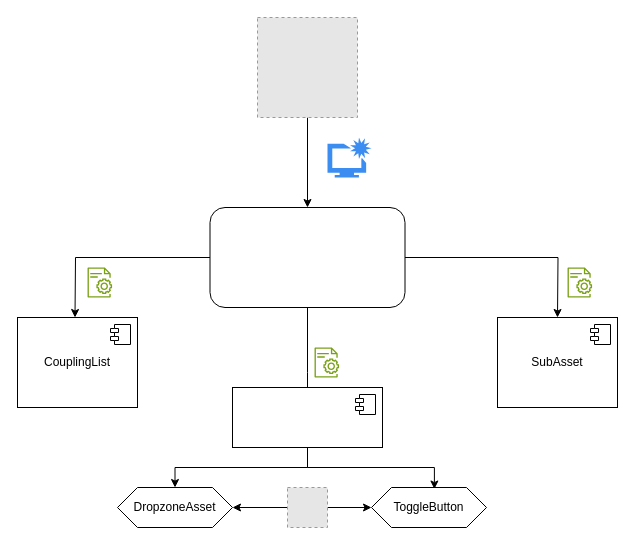
This 635x545 diagram has some shape labels left out. Grey dashed boxes stand in for pictures. The shapes that lost their labels are listed below. From the top down, each one's centre as x and y in pixels, then its label:
(307,257): AssetMangerCoupling
(307,417): AssetInfo
